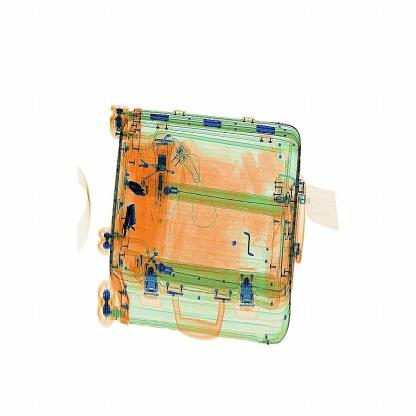scissors: (122, 178, 154, 200)
